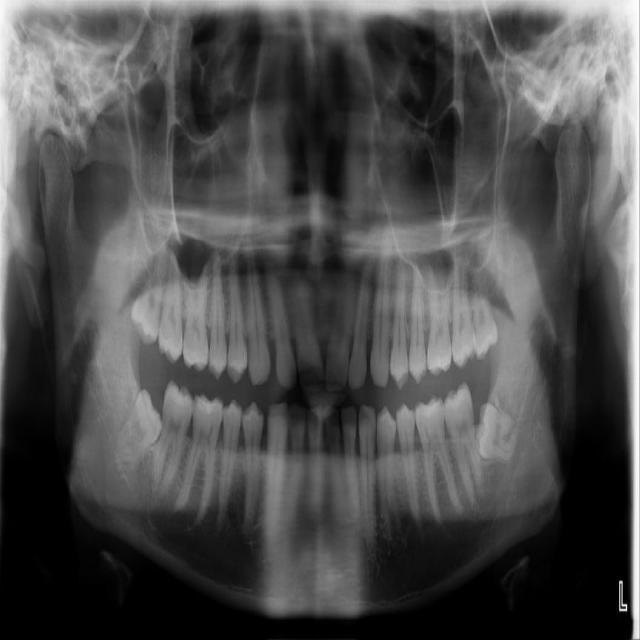3M ESPE Implant: (128, 245, 170, 345)
73: (583, 583, 587, 591)
BioHorizons Implant: (452, 257, 476, 368)
BioLife Implant: (471, 272, 498, 360)
Biomet 3i Implant: (469, 401, 523, 464)
Blue Sky Bio Implant: (438, 380, 489, 508)
Caries: (158, 253, 183, 364)
Implant: (148, 378, 198, 501)
Keystone Dental Implant: (105, 386, 175, 477)
